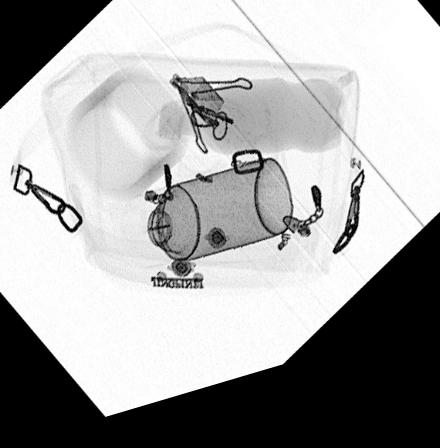Sprayer: (120, 171, 293, 278)
